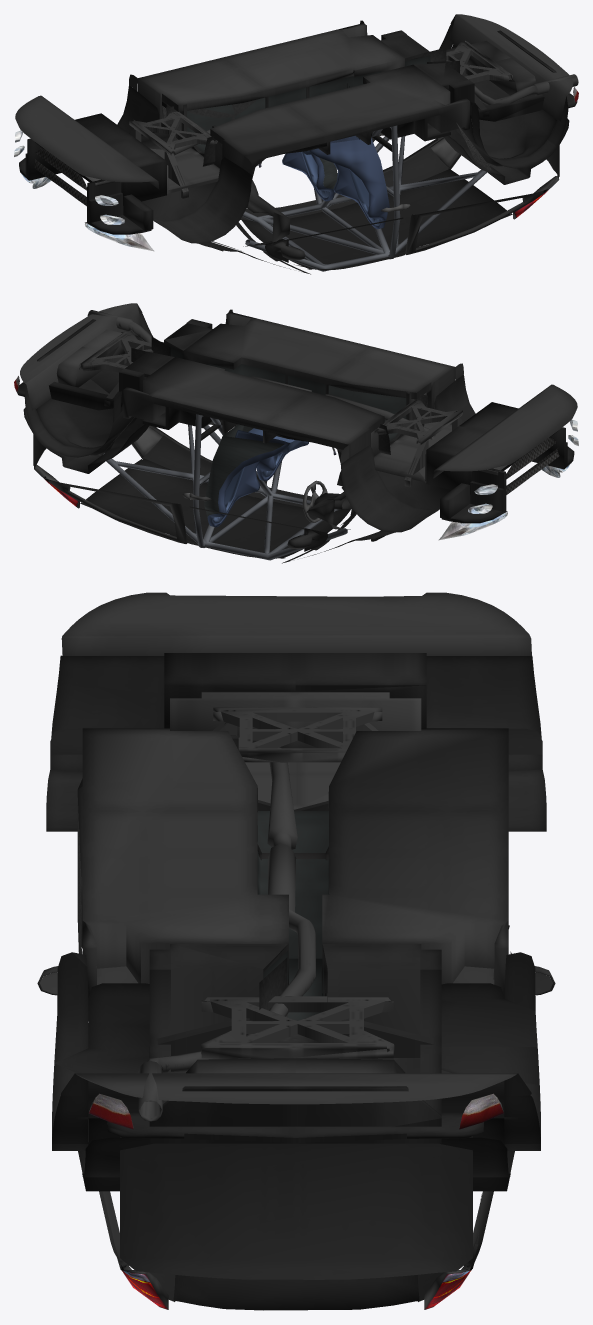
File: FN_interior_d3.obj
3 renders of one model, top to bottom at view 1: azimuth 30°, elevation 25°; view 2: azimuth 150°, elevation 25°; view 3: azimuth 270°, elevation 25°, orthographic. The views are drawn at different scales.
Visible parts, largest first — view 1: FN_interior_FN_interior_DefaultMaterial; view 2: FN_interior_FN_interior_DefaultMaterial; view 3: FN_interior_FN_interior_DefaultMaterial.
Boxes of the visible parts, left/top/right/bottom form: FN_interior_FN_interior_DefaultMaterial: left=14, top=14, right=578, bottom=274; FN_interior_FN_interior_DefaultMaterial: left=14, top=303, right=578, bottom=563; FN_interior_FN_interior_DefaultMaterial: left=37, top=592, right=555, bottom=1310.
Size of the model in its own units: 3.97 by 1.25 by 1.82.
1 material, 1 textured.
